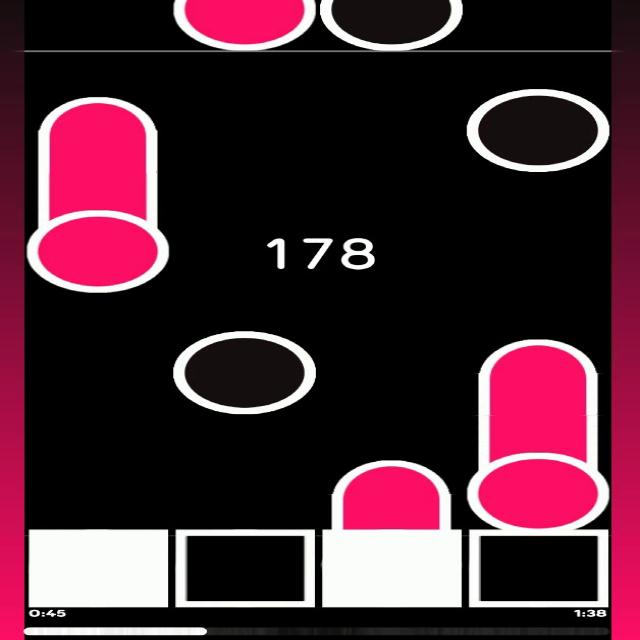end_hold: (474, 330, 601, 380), (36, 90, 160, 140), (329, 453, 456, 498)
note: (464, 84, 614, 174), (168, 331, 319, 416), (315, 0, 466, 50)
start_hold: (23, 194, 171, 295), (461, 435, 609, 532), (171, 0, 316, 53)
